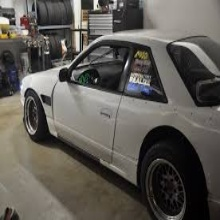no damage: (19, 27, 220, 220)
